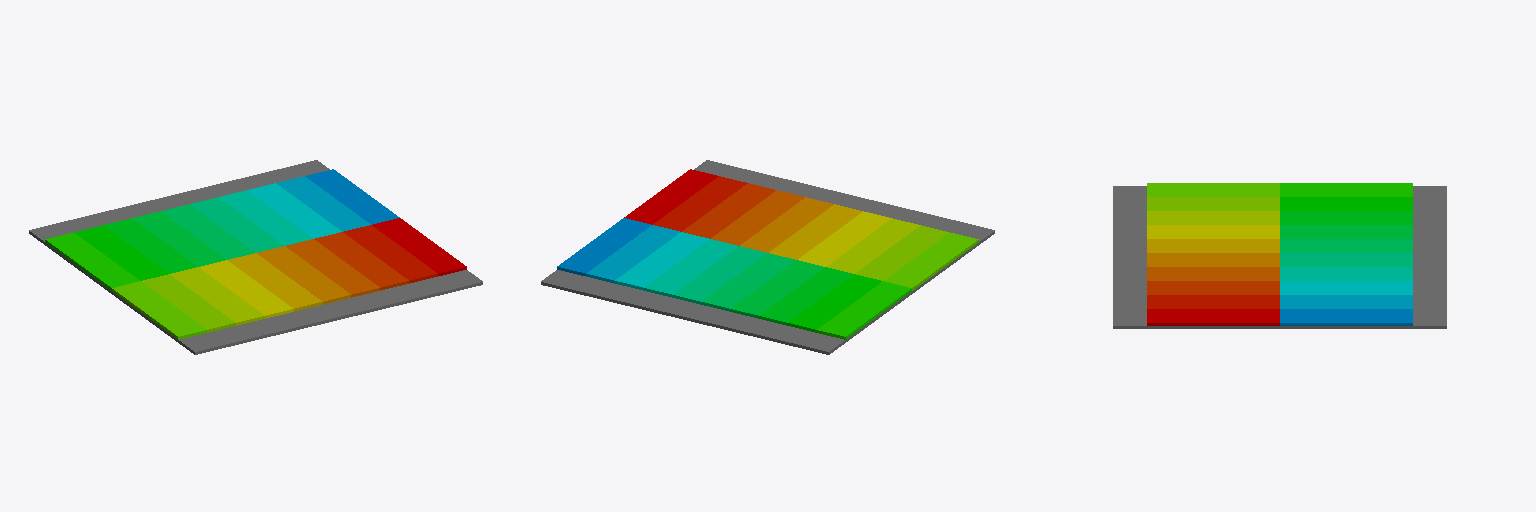
File: strips2.obj
3 renders of one model, left to right at view 1: azimuth 30°, elevation 25°; view 2: azimuth 150°, elevation 25°; view 3: azimuth 270°, elevation 25°, orthographic.
Visible parts, largest first — view 1: Box, Box020, Box001, Box011, Box018, Box012, Box014, Box017, Box013, Box015, Box016, Box019 (+9 smaller); view 2: Box, Box001, Box020, Box003, Box010, Box004, Box007, Box009, Box005, Box006, Box008, Box002 (+9 smaller); view 3: Box, Box010, Box011, Box002, Box001, Box003, Box004, Box005, Box006, Box007, Box008, Box009 (+9 smaller).
Part boxes in pixels (bbox=[...]): Box: bbox=[29, 160, 482, 354]; Box020: bbox=[112, 281, 206, 339]; Box001: bbox=[45, 233, 139, 290]; Box011: bbox=[372, 218, 466, 275]; Box018: bbox=[170, 267, 264, 325]; Box012: bbox=[343, 225, 437, 283]; Box014: bbox=[199, 260, 293, 318]; Box017: bbox=[286, 239, 379, 297]; Box013: bbox=[314, 232, 408, 290]; Box015: bbox=[228, 253, 322, 311]; Box016: bbox=[257, 246, 350, 304]; Box019: bbox=[141, 274, 235, 332]; Box: bbox=[541, 160, 994, 354]; Box001: bbox=[817, 281, 911, 339]; Box020: bbox=[884, 233, 978, 290]; Box003: bbox=[759, 267, 853, 325]; Box010: bbox=[557, 218, 651, 275]; Box004: bbox=[730, 260, 824, 318]; Box007: bbox=[644, 239, 737, 297]; Box009: bbox=[586, 225, 680, 283]; Box005: bbox=[701, 253, 795, 311]; Box006: bbox=[673, 246, 766, 304]; Box008: bbox=[615, 232, 709, 290]; Box002: bbox=[788, 274, 882, 332]; Box: bbox=[1113, 186, 1446, 328]; Box010: bbox=[1280, 309, 1412, 325]; Box011: bbox=[1147, 309, 1279, 325]; Box002: bbox=[1280, 197, 1412, 210]; Box001: bbox=[1280, 183, 1412, 196]; Box003: bbox=[1280, 211, 1412, 224]; Box004: bbox=[1280, 225, 1412, 238]; Box005: bbox=[1280, 239, 1412, 252]; Box006: bbox=[1280, 253, 1412, 266]; Box007: bbox=[1280, 267, 1412, 280]; Box008: bbox=[1280, 281, 1412, 294]; Box009: bbox=[1280, 295, 1412, 308].
Size of the model in its own units: 1 by 0.02 by 1.